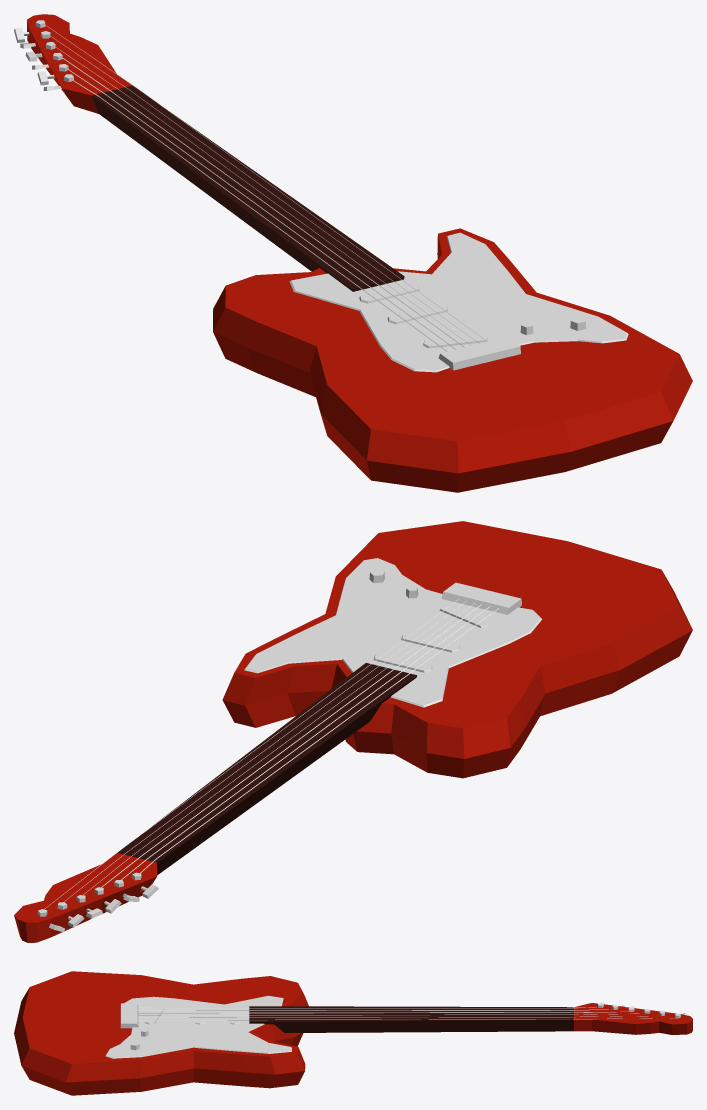
The model's file is GuitareElectrique.fbx.
3 views of the same model, one above another, from view 1: azimuth 30°, elevation 25°; view 2: azimuth 150°, elevation 25°; view 3: azimuth 270°, elevation 25° (orthographic). The views are drawn at different scales.
Parts seen in each view (by area): view 1: GuitareElectrique; view 2: GuitareElectrique; view 3: GuitareElectrique.
Part boxes in pixels (x1,y1,x2,y2): GuitareElectrique: (14,14,692,492); GuitareElectrique: (14,521,692,942); GuitareElectrique: (14,971,692,1095).
Size of the model in its own units: 33.28 by 5.87 by 97.32.
